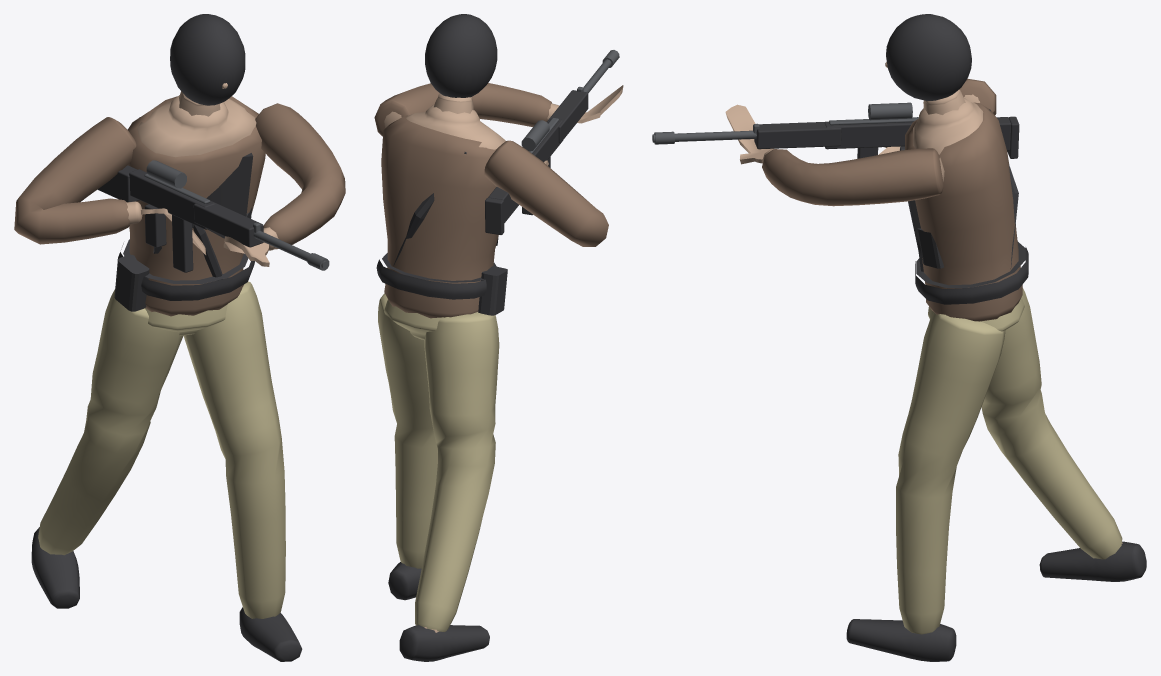
The model's file is tactical-shooter-hill-town-veteran-standing-aim-cf2fb2e5__27591.glb.
3 views of the same model, side by side, from view 1: azimuth 30°, elevation 25°; view 2: azimuth 150°, elevation 25°; view 3: azimuth 270°, elevation 25° (orthographic). The views are drawn at different scales.
Parts seen in each view (by area): view 1: veteran-standing-aim; view 2: veteran-standing-aim; view 3: veteran-standing-aim.
Part boxes in pixels (x1,y1,x2,y2): veteran-standing-aim: (14, 14, 345, 661); veteran-standing-aim: (374, 14, 623, 661); veteran-standing-aim: (652, 14, 1146, 661).
Size of the model in its own units: 0.7718 by 1.76 by 1.28.
